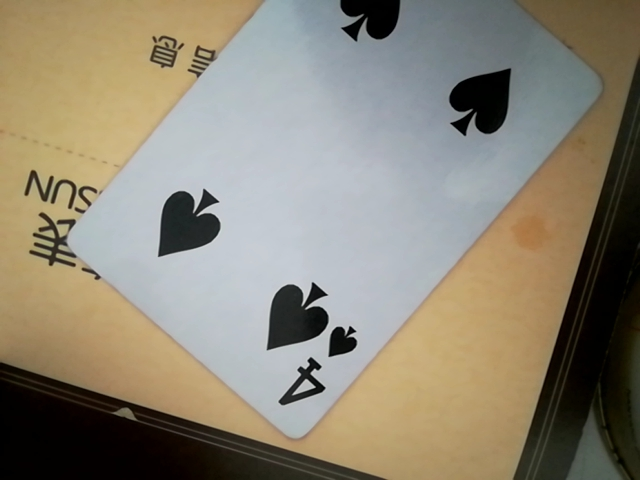ht 4: (56, 3, 605, 452)
